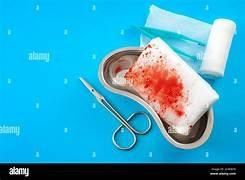Bandage: (145, 5, 235, 76)
